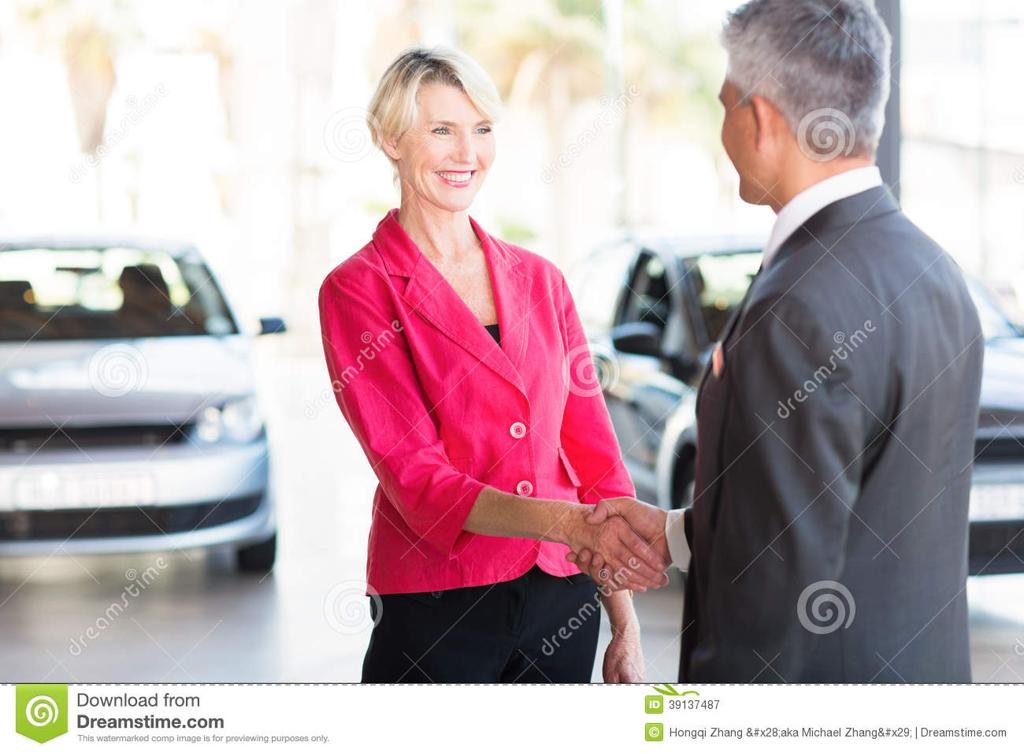face: (404, 82, 496, 210)
